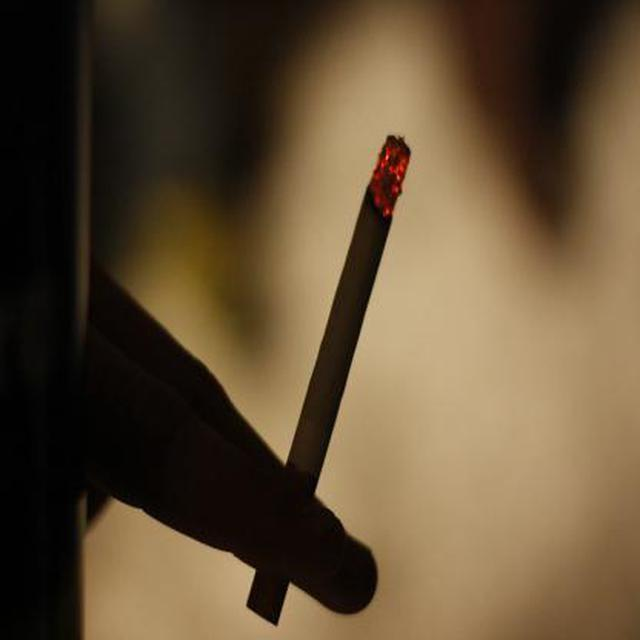smoking: (252, 126, 415, 619)
